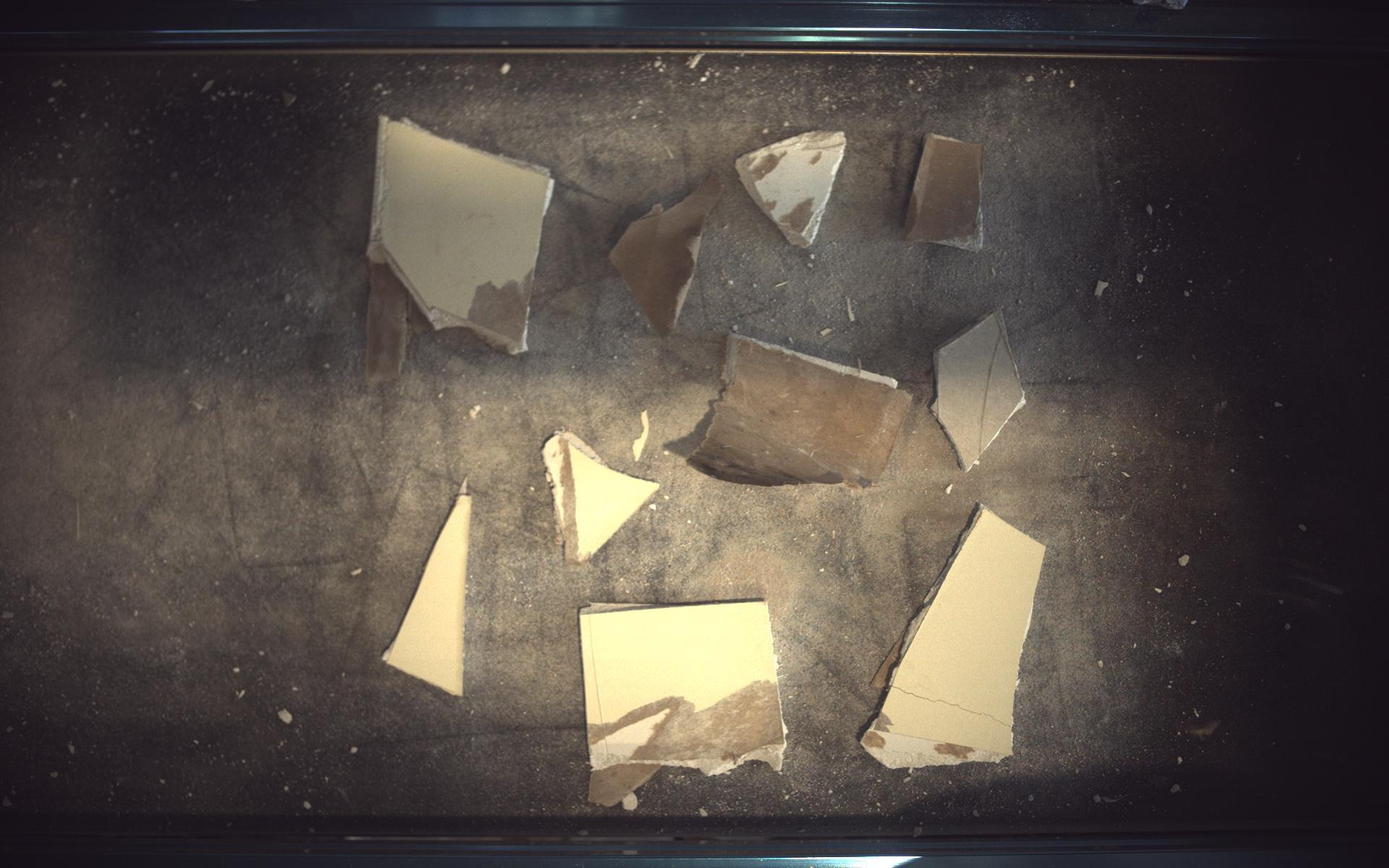gypsum_board: (365, 114, 555, 383), (862, 506, 1048, 770), (581, 601, 788, 811), (689, 333, 914, 487), (383, 480, 472, 697), (611, 174, 723, 336), (543, 431, 660, 564), (933, 310, 1027, 471), (736, 130, 848, 247), (906, 132, 985, 250)
